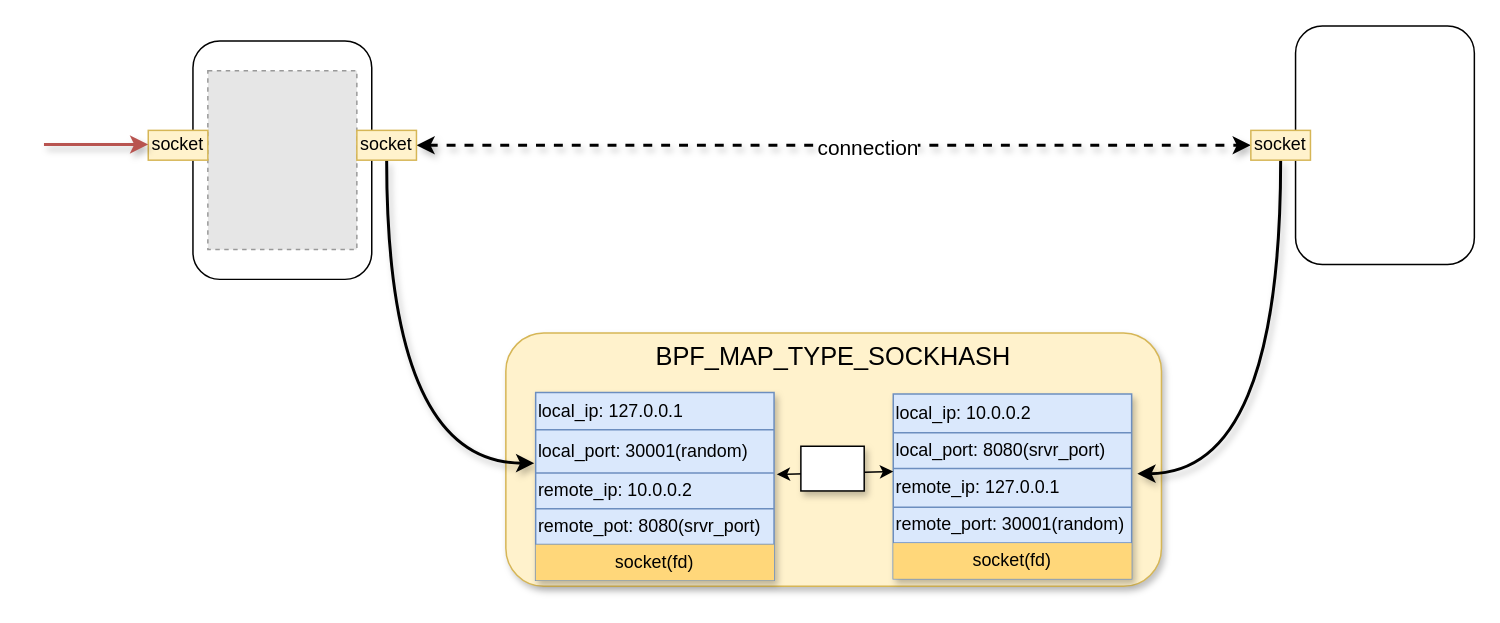
The diagram is 1500 pixels wide and 623 high, and some of its shapes have lost their labels. Grey dashed boxes stand in for pictures. Here are the shapes that lost their labels. From the top down, the centre of each, then its label:
At pixel 1384 144: "server app".
At pixel 833 470: "msg".
